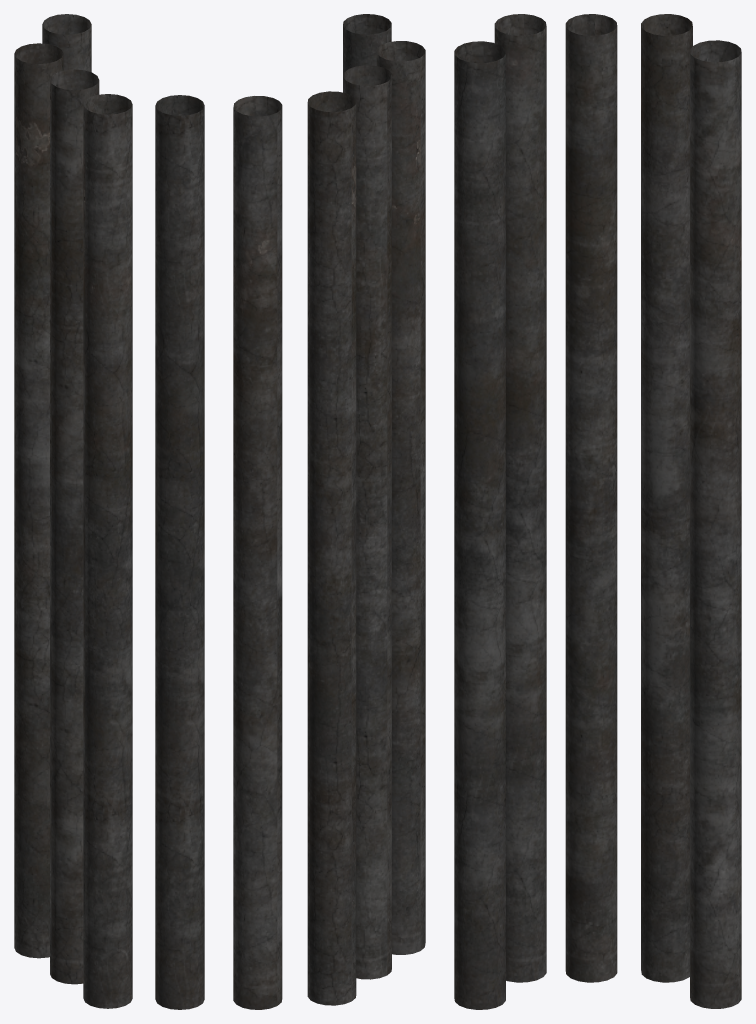
Rendered from Utility_Pipes_D.glb.
The picture shows the model from 3 angles, left to right: view 1: azimuth 30°, elevation 25°; view 2: azimuth 150°, elevation 25°; view 3: azimuth 270°, elevation 25°; orthographic projection. The views are drawn at different scales.
Visible parts, largest first — view 1: Utility_Pipes_D; view 2: Utility_Pipes_D; view 3: Utility_Pipes_D.
Part boxes in pixels (left/top/right/bottom): Utility_Pipes_D: left=14, top=14, right=204, bottom=1009; Utility_Pipes_D: left=233, top=14, right=425, bottom=1009; Utility_Pipes_D: left=454, top=14, right=741, bottom=1009.
Bounding box in the file's own units: 0.3345 × 3 × 0.8253.
Materials: 1 (1 with a texture image).
